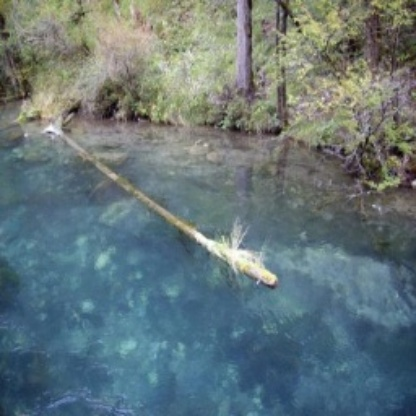branch: (54, 130, 283, 289)
